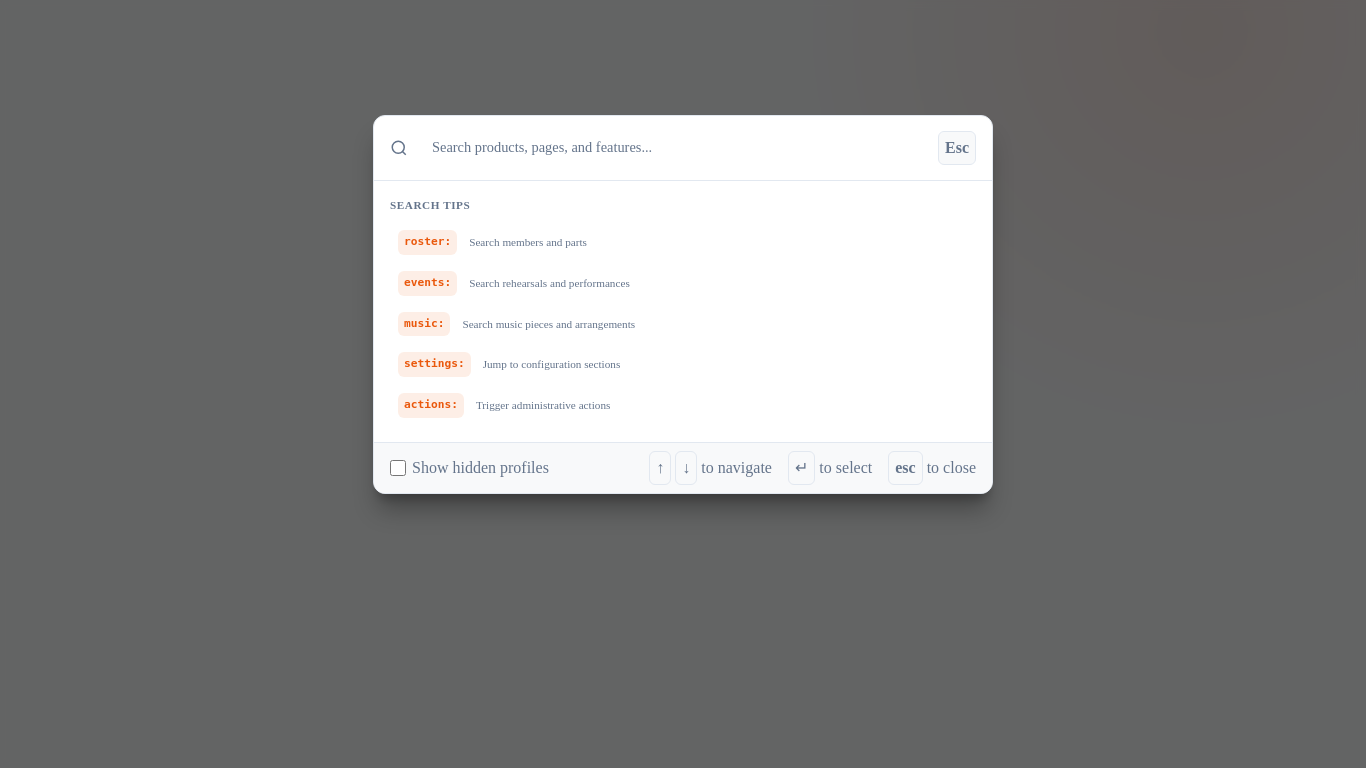
it: CommandPaletteModal workspace scoping › finds Ticket Sales & Orders in organization workspace
Type "ticket" into the dropdown at (673,148), box x1=420 y1=128 x2=926 y2=168
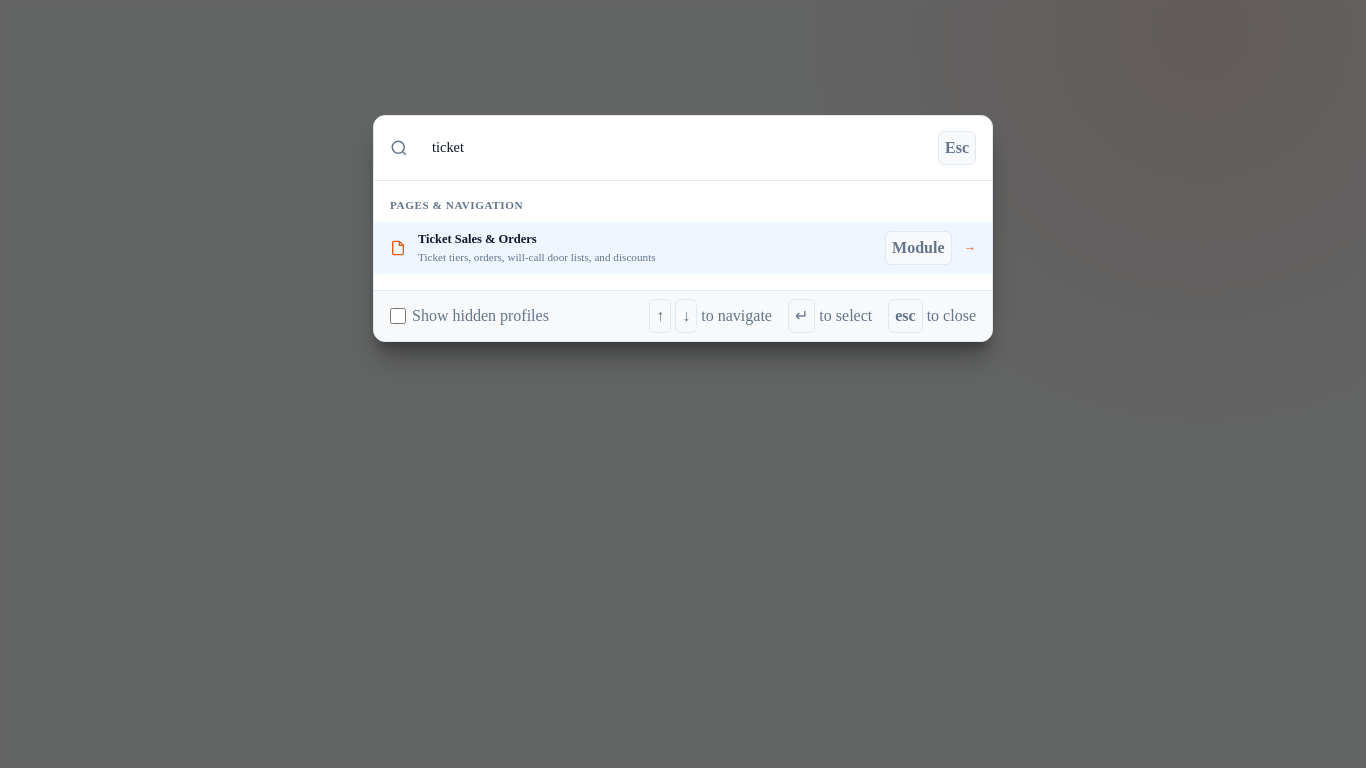
Expected: the text "Ticket Sales & Orders" is shown, x1=418 y1=232 x2=537 y2=246
